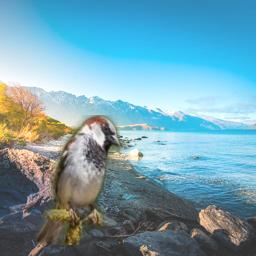Sparrow: (36, 115, 120, 245)
